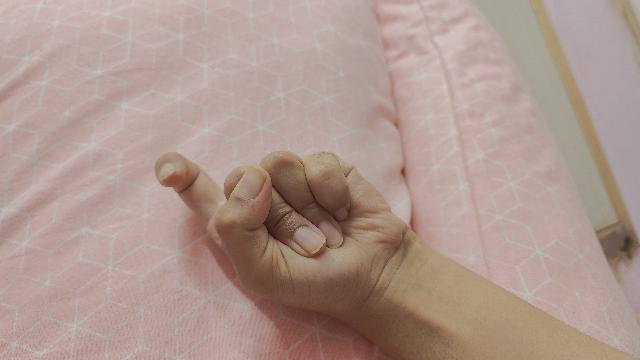tamrachud: (152, 151, 640, 360)
